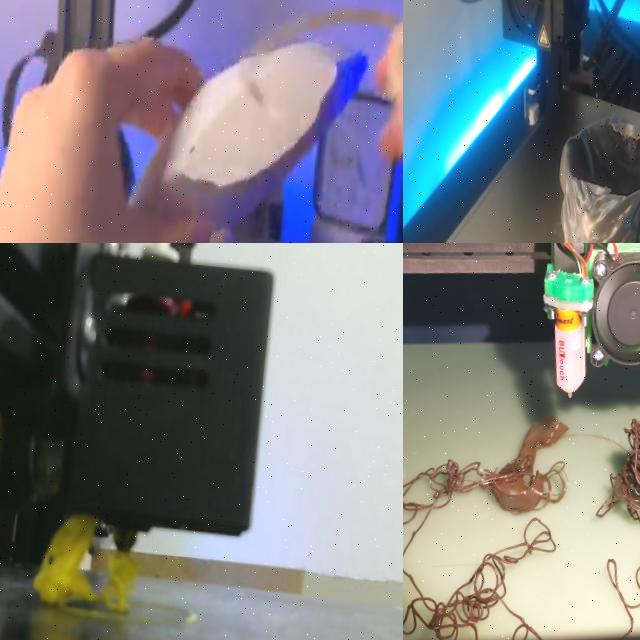spaghetti: (403, 402, 579, 640), (33, 514, 138, 611)
